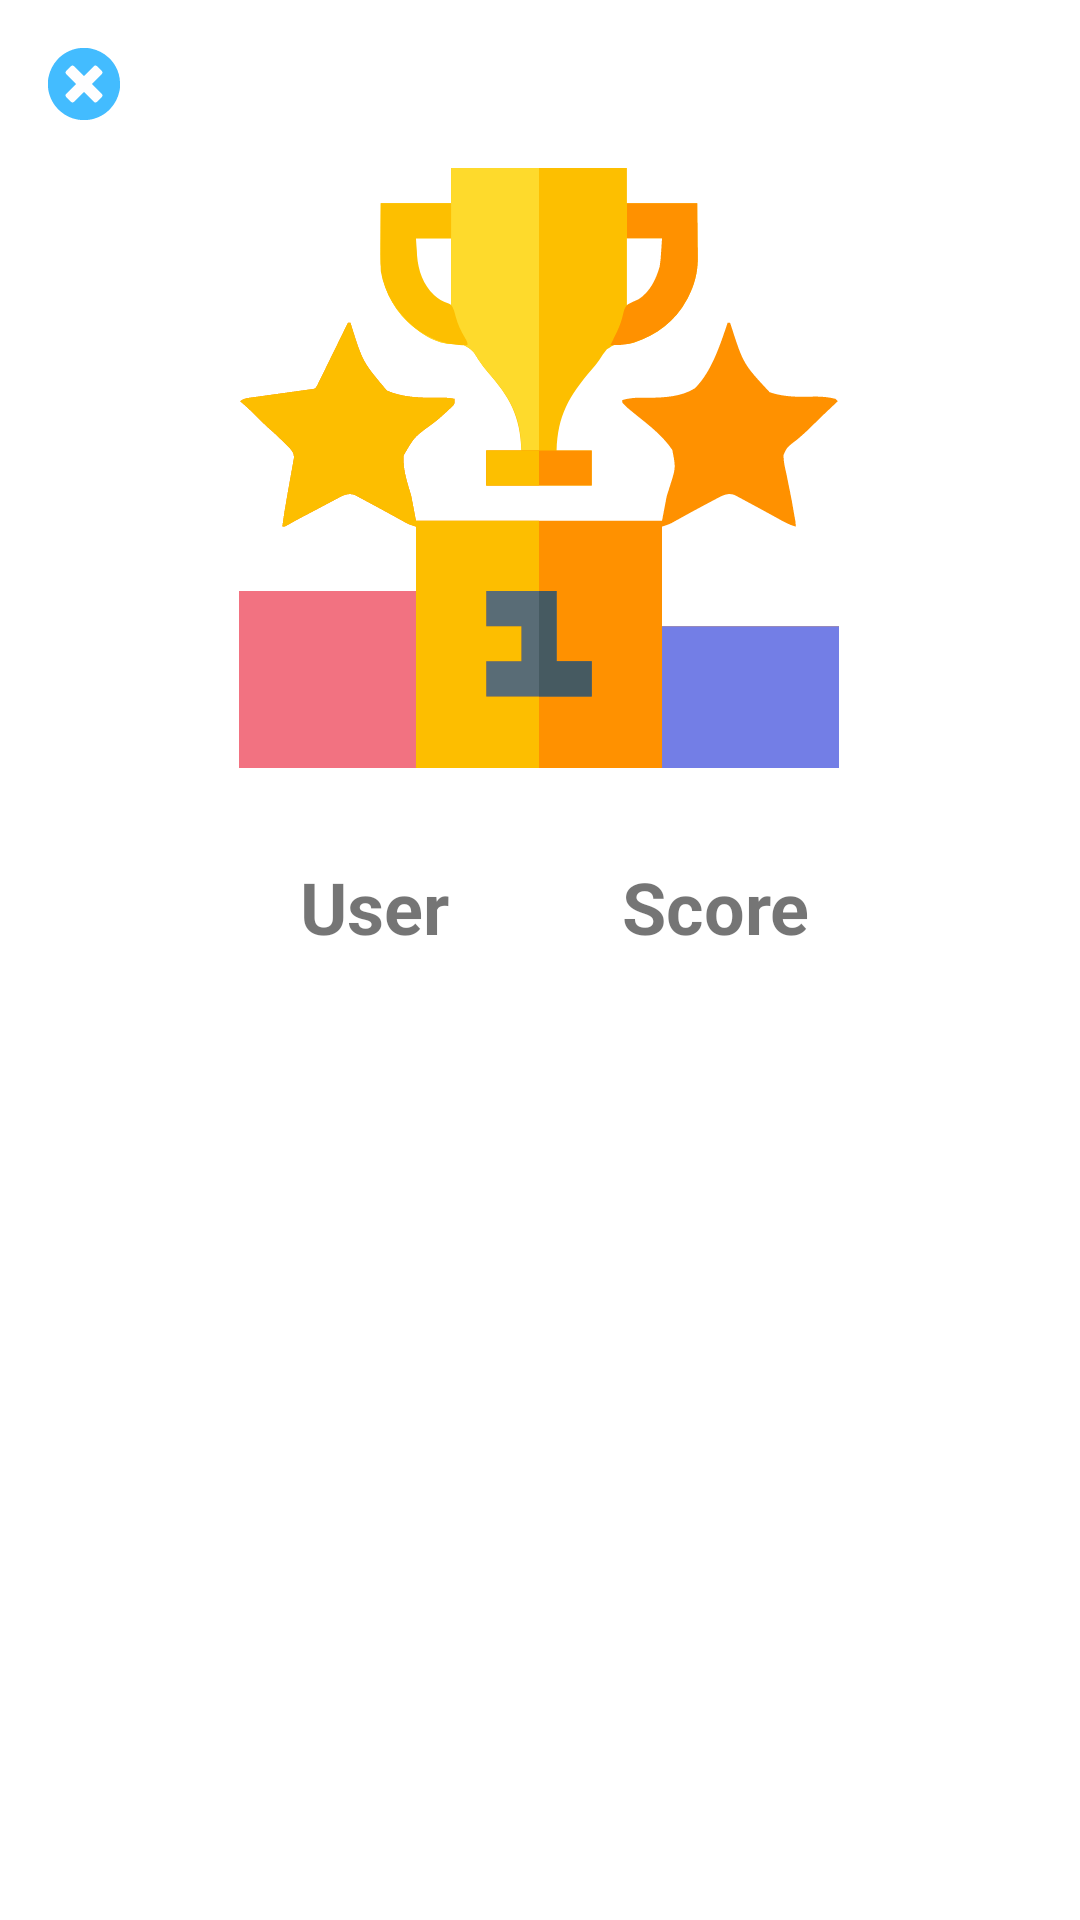

Icon click points for this 1080 × 1920 phone screenshot, format point (x, y):
close: point (84, 84)
